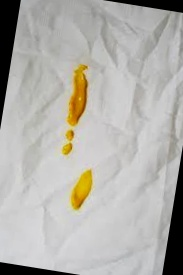mustard: (58, 58, 98, 130), (72, 164, 97, 210), (61, 140, 75, 156), (67, 129, 76, 138)
